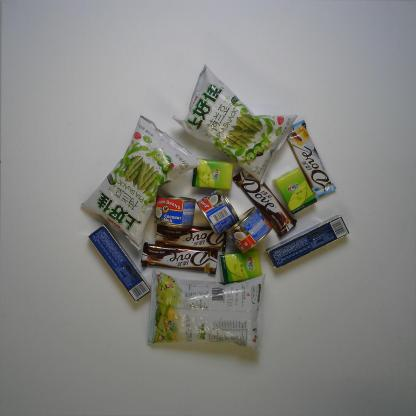Canned Food: (223, 204, 273, 253), (194, 188, 242, 237), (151, 194, 200, 232)
Chocolate: (228, 166, 300, 238), (282, 116, 339, 200), (138, 239, 219, 277), (153, 220, 228, 256)
Personal Hygiene: (85, 223, 150, 307), (264, 214, 352, 272)
Puffed Food: (78, 112, 201, 252), (170, 62, 300, 186), (142, 268, 270, 354)
Tissue: (271, 167, 318, 216), (219, 249, 266, 285), (190, 157, 233, 191)
